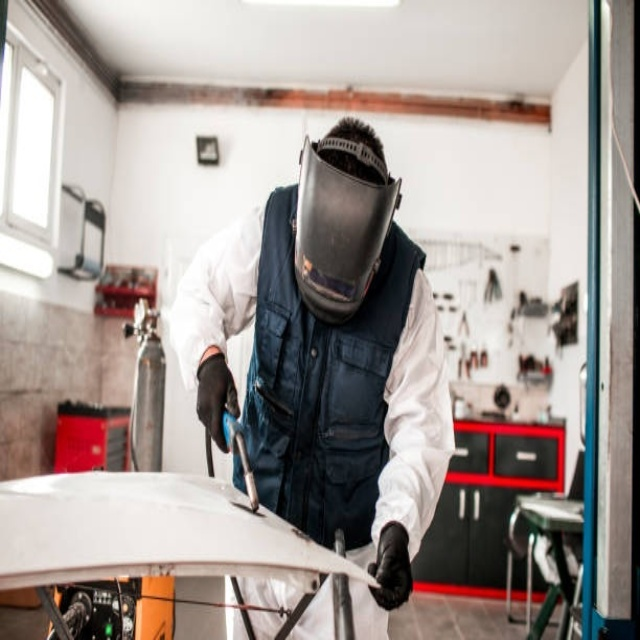Guantes: (196, 351, 238, 455), (366, 521, 414, 610)
